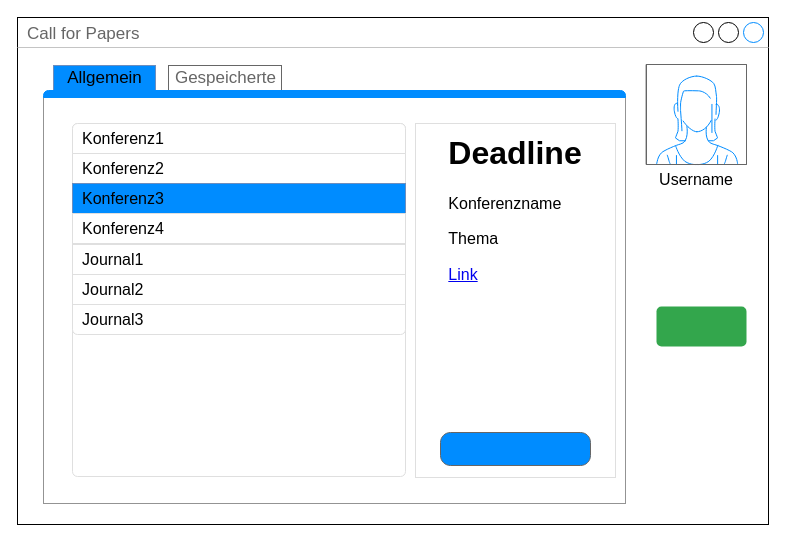
Some shapes in this 786 by 542 pixel diagram are drawn without their labels. The shapes that lost their labels are listed below. From the top down, each one's centre as x and y in pixels, then its label:
At (701,326): "home".
At (515,449): "Speichern".
